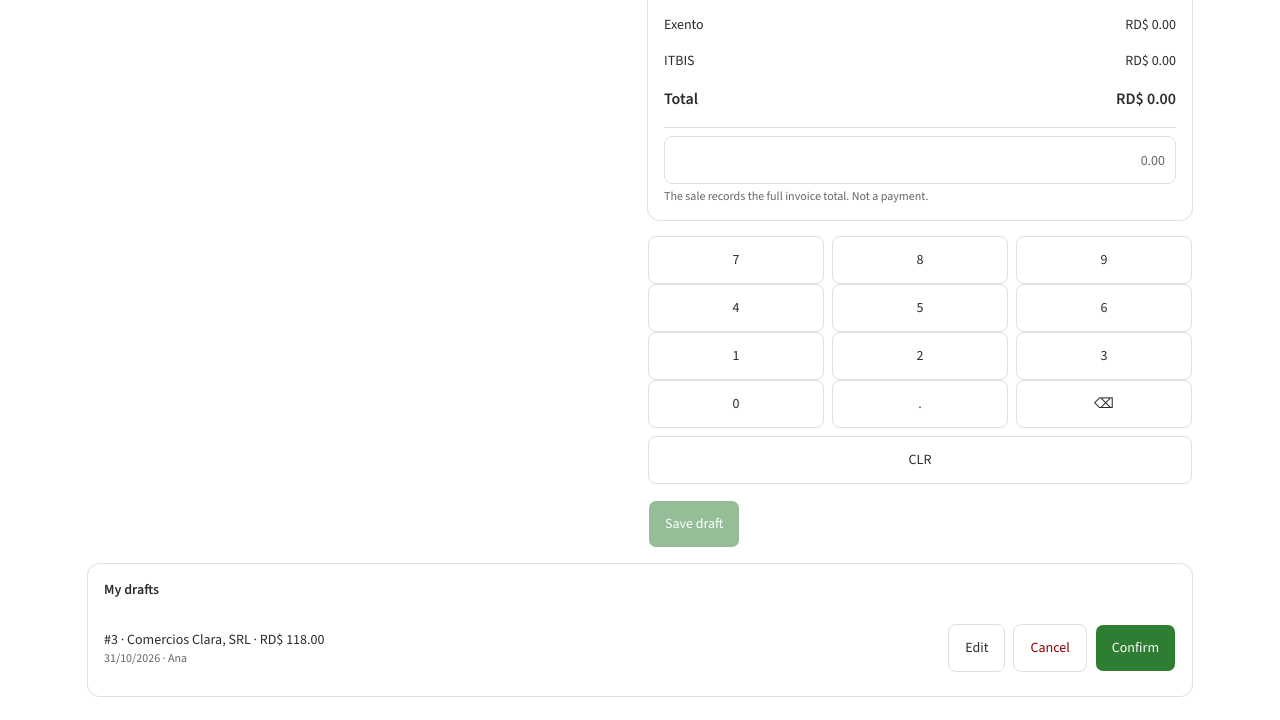
Test: PosScreen credit-mode derivation (R-V19) › shows the derived due date from the post-confirm CREDITO verdict (2026-03-01 + 15 → 2026-03-16)
(page scrolled)
Click the button with aria-label "Confirm draft 3" at (1135, 648), box [1095, 624, 1176, 672]
(page scrolled)
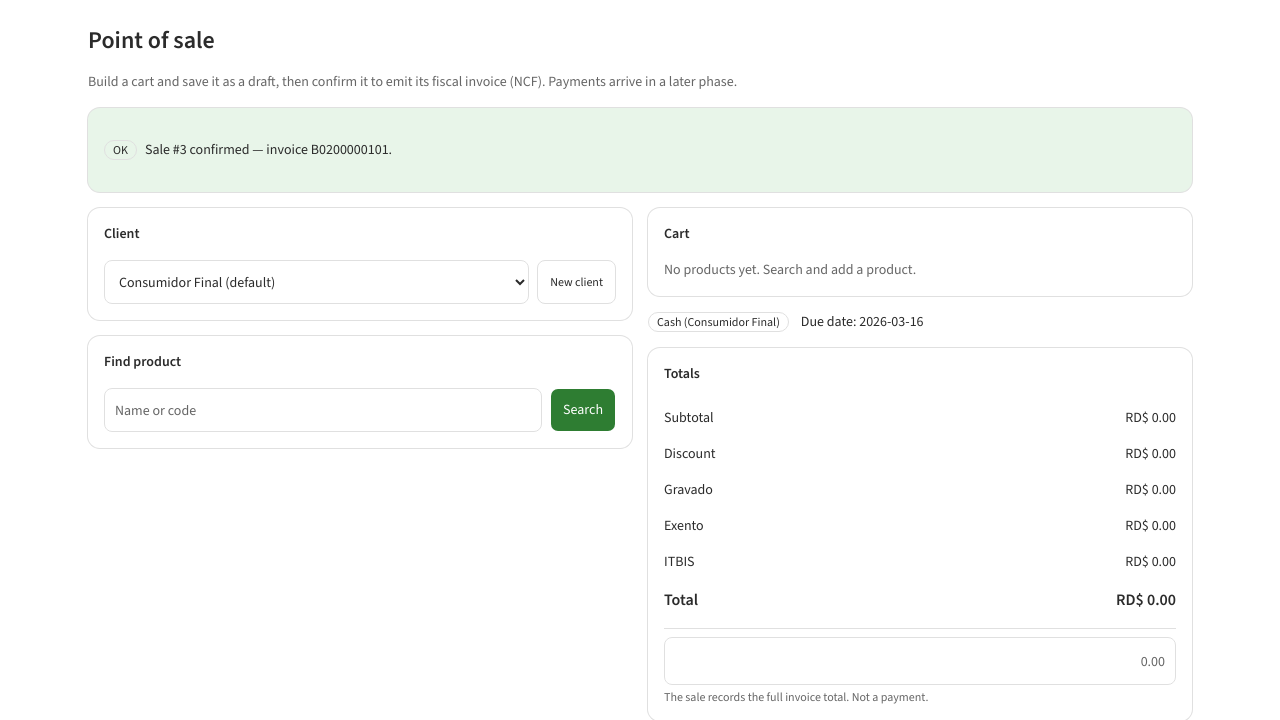
Expected: the text "Due date: 2026-03-16" is shown, [801, 312, 924, 332]
